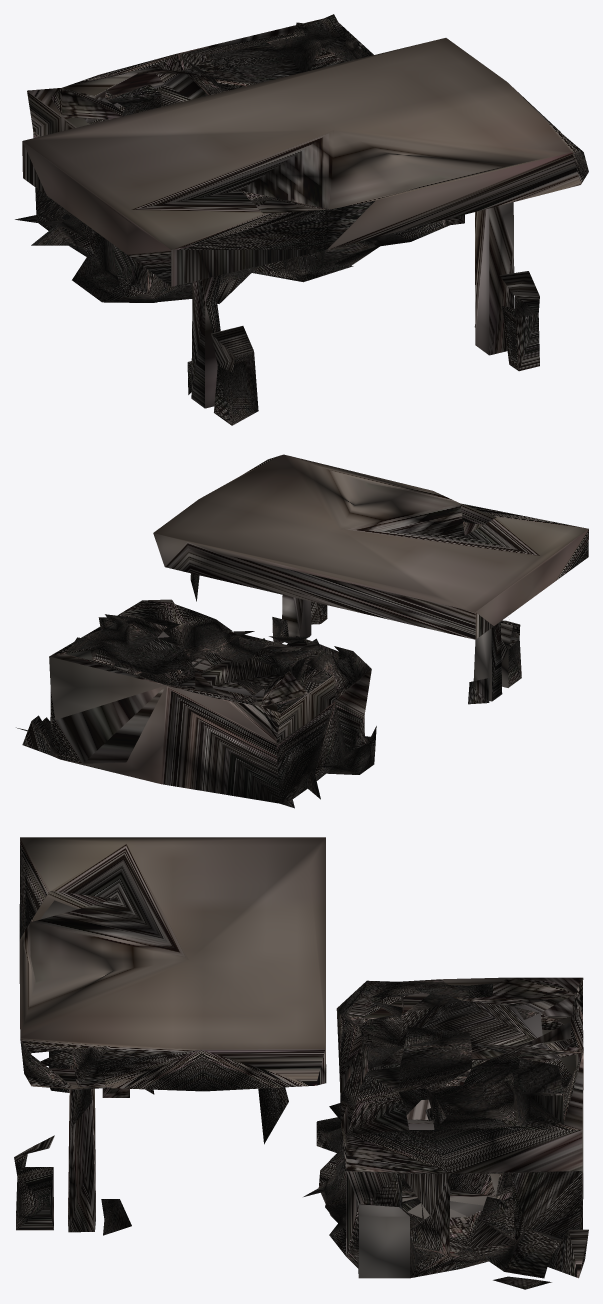
The model's file is gas.glb.
The picture shows the model from 3 angles, top to bottom: view 1: azimuth 30°, elevation 25°; view 2: azimuth 150°, elevation 25°; view 3: azimuth 270°, elevation 25°; orthographic projection. The views are drawn at different scales.
Visible parts, largest first — view 1: gas; view 2: gas; view 3: gas.
Part boxes in pixels (x1=…): gas: x1=15, y1=14, x2=588, y2=425; gas: x1=16, y1=454, x2=588, y2=808; gas: x1=14, y1=837, x2=588, y2=1289.
Size of the model in its own units: 36.94 by 14.75 by 36.13.
Materials: 1 (1 with a texture image).
